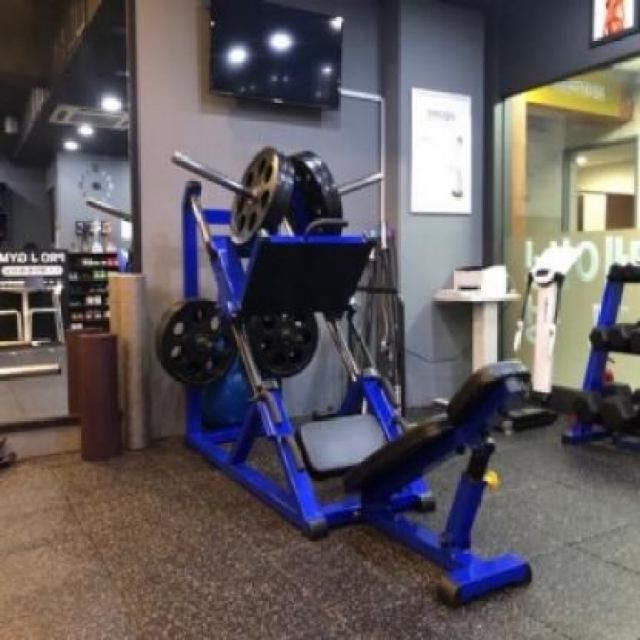leg press: (120, 136, 555, 622)
